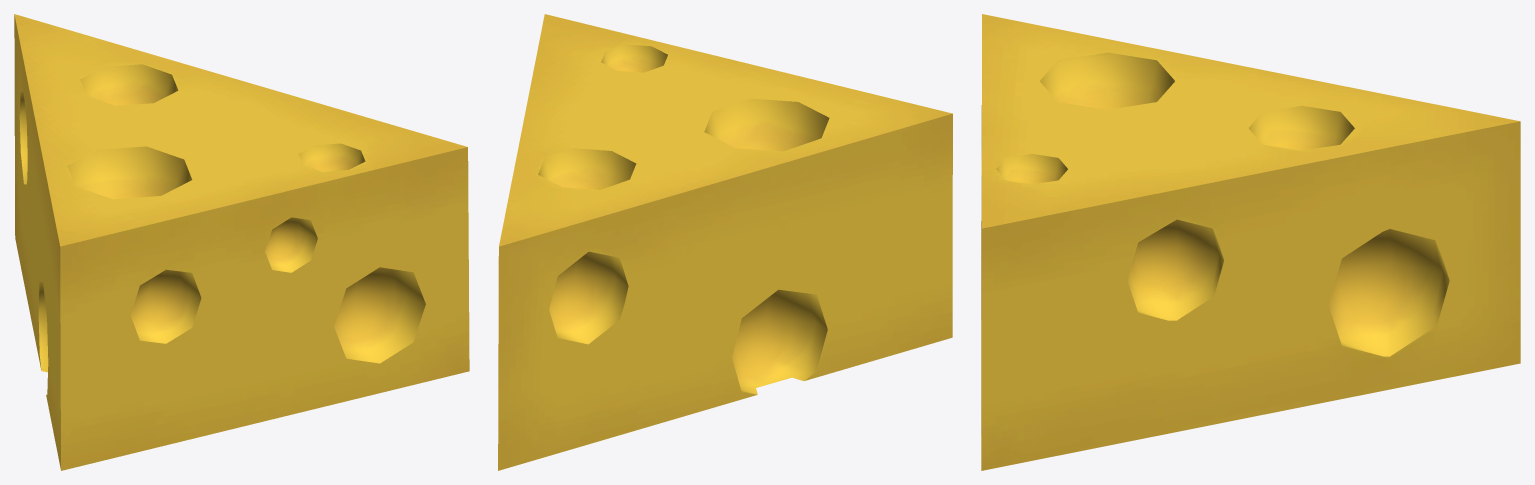
Rendered from cheese.obj.
The picture shows the model from 3 angles, left to right: view 1: azimuth 30°, elevation 25°; view 2: azimuth 150°, elevation 25°; view 3: azimuth 270°, elevation 25°; orthographic projection. The views are drawn at different scales.
Visible parts, largest first — view 1: Cheese1; view 2: Cheese1; view 3: Cheese1.
Boxes of the visible parts, x1,y1,x2,y2 form: Cheese1: (14,14,469,470); Cheese1: (498,14,952,470); Cheese1: (981,14,1520,470).
Size of the model in its own units: 1.31 by 0.6879 by 1.39.
1 material, 1 textured.
